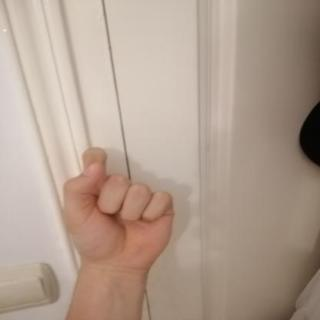FAA: (48, 140, 188, 282)
